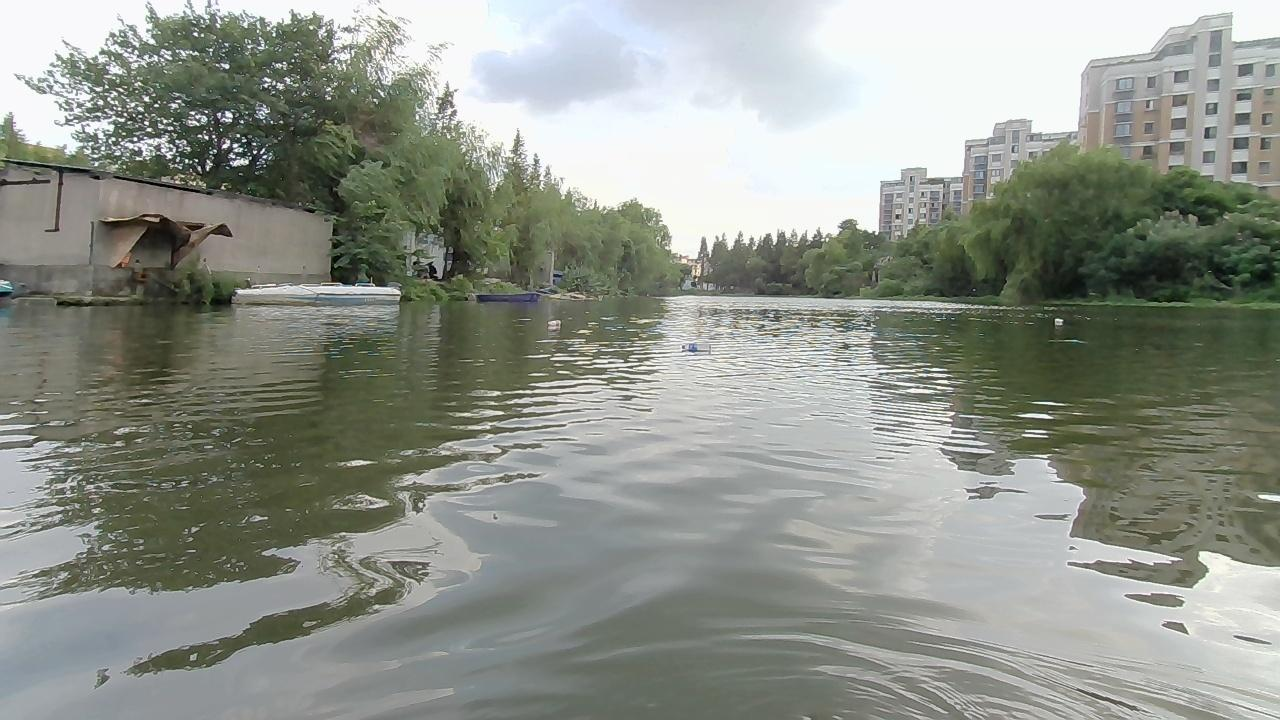bottle: (676, 340, 712, 357), (543, 317, 561, 329), (1050, 316, 1063, 325)
